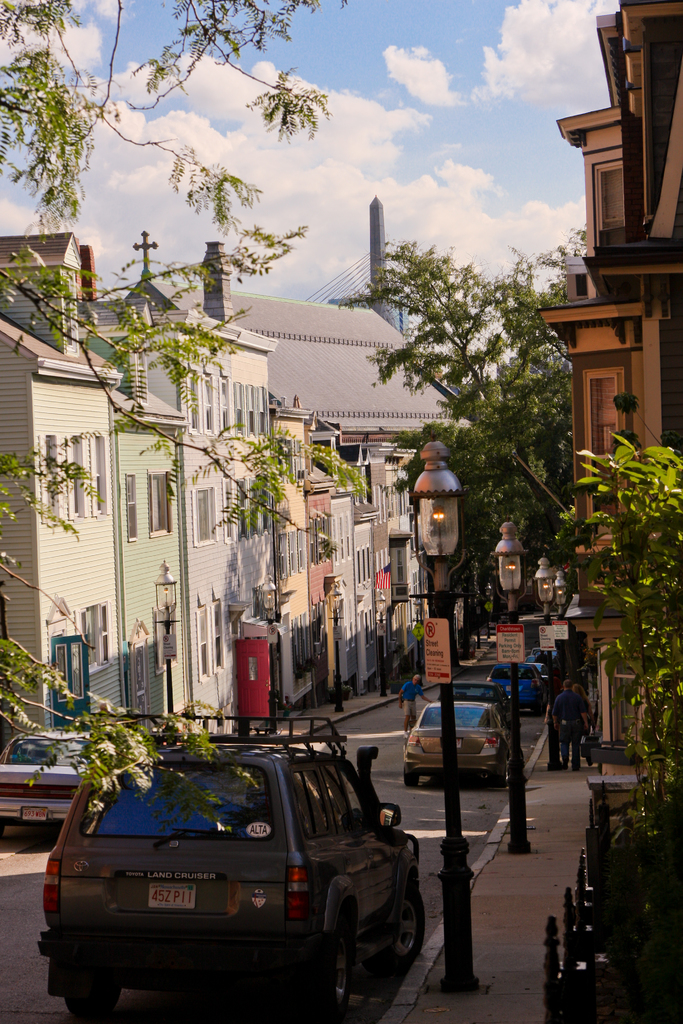mobil: (36, 727, 425, 1008), (404, 697, 522, 797)
